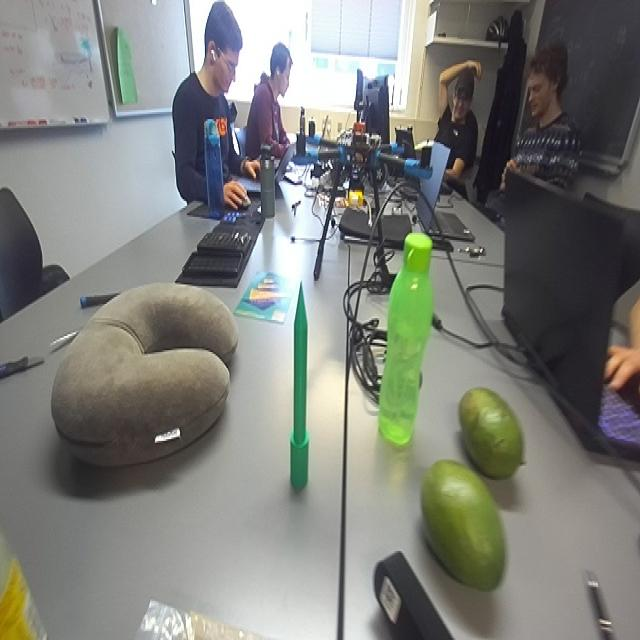probe: (290, 281, 312, 489)
